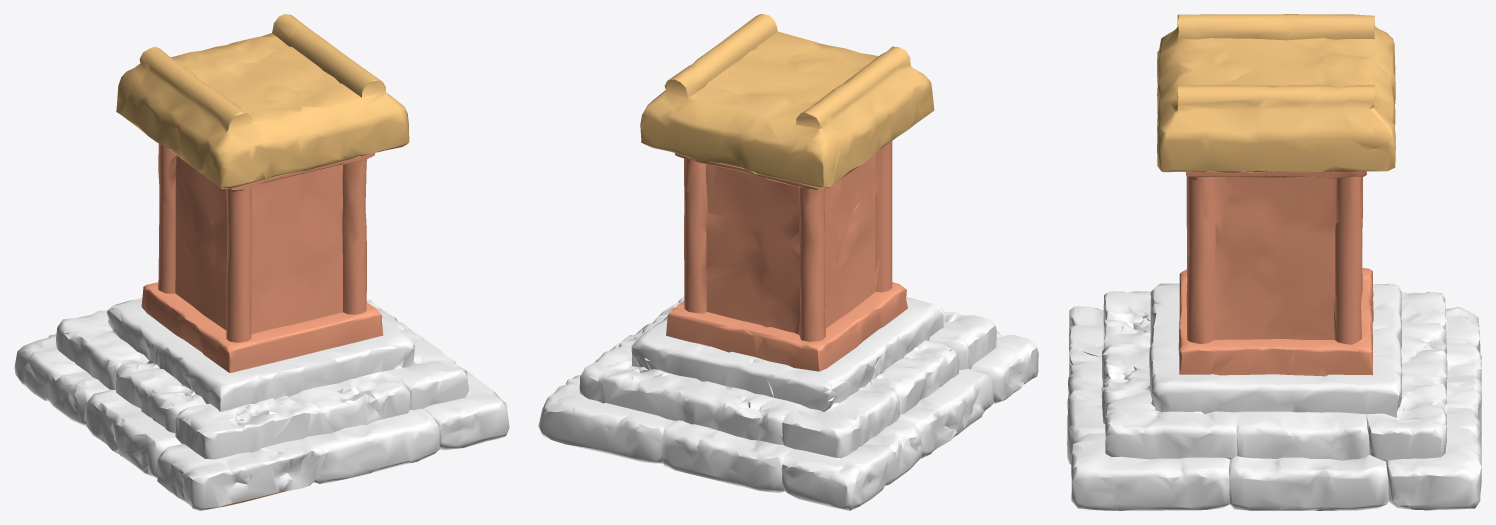
File: Altar_fbx.fbx
3 renders of one model, left to right at view 1: azimuth 30°, elevation 25°; view 2: azimuth 150°, elevation 25°; view 3: azimuth 270°, elevation 25°, orthographic. The views are drawn at different scales.
Parts seen in each view (by area): view 1: Altar2; view 2: Altar2; view 3: Altar2.
Boxes of the visible parts, x1,y1,x2,y2 form: Altar2: (14,14,509,510); Altar2: (538,14,1038,510); Altar2: (1067,14,1481,510).
Bounding box in the file's own units: 2.65 × 2.76 × 2.73.
